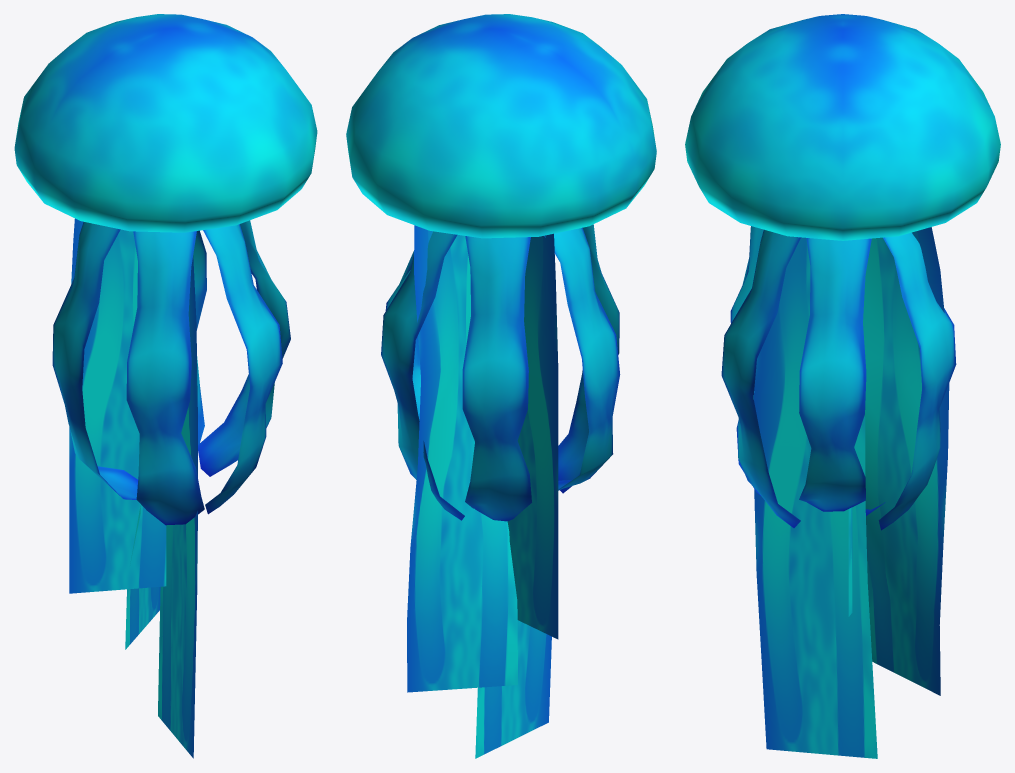
File: p_mesh_jellyfish01_pose2.fbx
3 views of the same model, side by side, from view 1: azimuth 30°, elevation 25°; view 2: azimuth 150°, elevation 25°; view 3: azimuth 270°, elevation 25° (orthographic). The views are drawn at different scales.
Visible parts, largest first — view 1: jellyfish01_pose2; view 2: jellyfish01_pose2; view 3: jellyfish01_pose2.
Boxes of the visible parts, x1,y1,x2,y2 form: jellyfish01_pose2: (14,14,317,758); jellyfish01_pose2: (346,14,656,758); jellyfish01_pose2: (685,14,1000,758).
Bounding box in the file's own units: 2.49 × 6.29 × 2.49.
